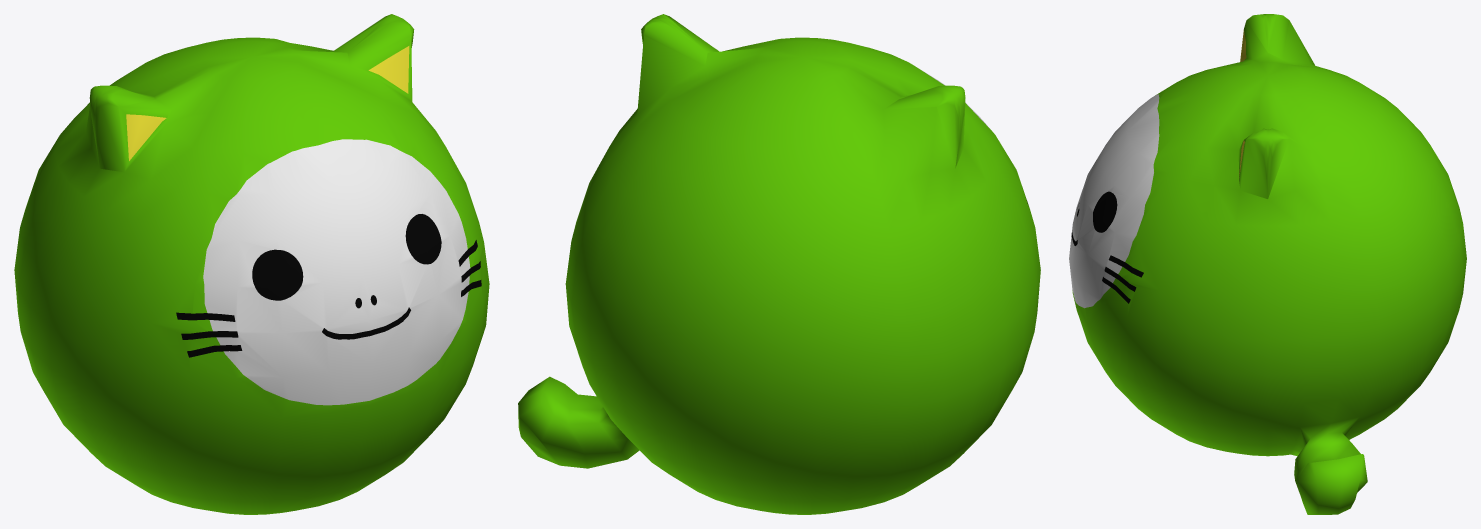
File: qiitan.glb
3 renders of one model, left to right at view 1: azimuth 30°, elevation 25°; view 2: azimuth 150°, elevation 25°; view 3: azimuth 270°, elevation 25°, orthographic. The views are drawn at different scales.
Parts seen in each view (by area): view 1: 球; view 2: 球; view 3: 球.
Part boxes in pixels (<box>): 球: <box>14,14,489,514</box>; 球: <box>518,14,1040,514</box>; 球: <box>1069,14,1466,514</box>.
Bounding box in the file's own units: 1.84 × 1.71 × 1.7.
